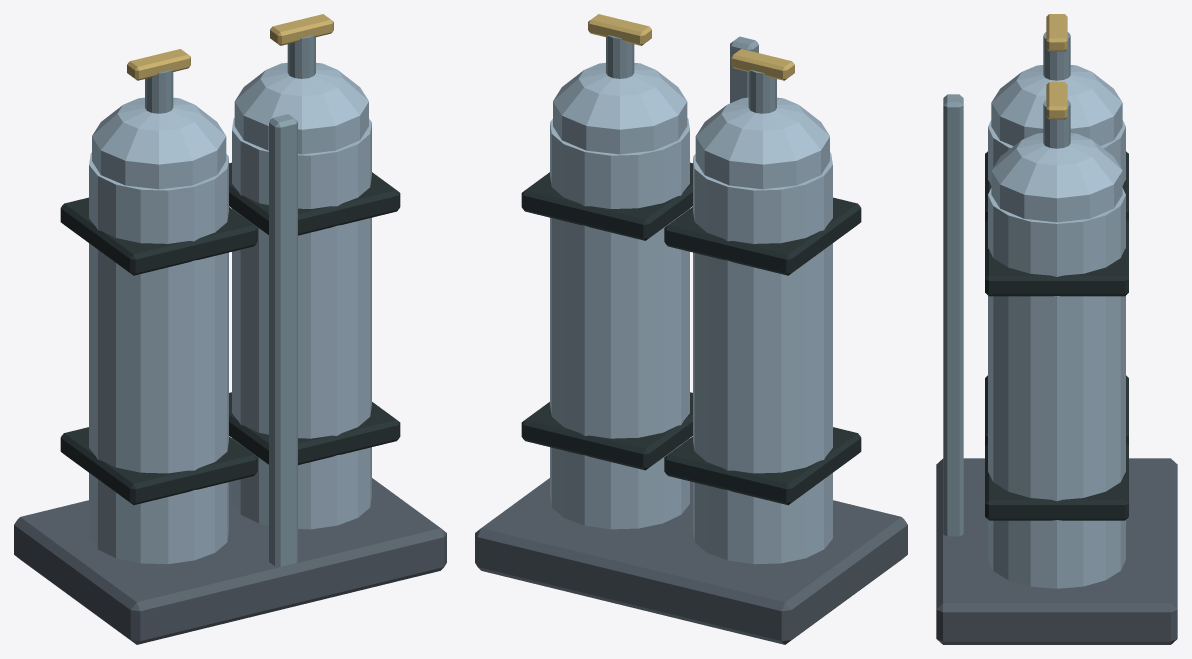
The model's file is oxygen_cylinder_pair.glb.
3 renders of one model, left to right at view 1: azimuth 30°, elevation 25°; view 2: azimuth 150°, elevation 25°; view 3: azimuth 270°, elevation 25°, orthographic. The views are drawn at different scales.
Visible parts, largest first — view 1: gas_cylinder (×2), carrier_base, restraint_band (×4), cylinder_shoulder (×2), carrier_back, valve_grip (×2), valve (×2); view 2: gas_cylinder (×2), carrier_base, restraint_band (×4), cylinder_shoulder (×2), valve_grip (×2), valve (×2), carrier_back; view 3: gas_cylinder (×2), carrier_base, cylinder_shoulder (×2), restraint_band (×4), carrier_back, valve (×2), valve_grip (×2).
Boxes of the visible parts, <box> form: gas_cylinder (×2): <box>89,118,371,564</box>; carrier_base: <box>14,478,446,644</box>; restraint_band (×4): <box>60,162,400,505</box>; cylinder_shoulder (×2): <box>92,62,368,189</box>; carrier_back: <box>269,114,297,566</box>; valve_grip (×2): <box>127,14,333,80</box>; valve (×2): <box>145,35,315,113</box>; gas_cylinder (×2): <box>550,118,832,564</box>; carrier_base: <box>475,478,907,644</box>; restraint_band (×4): <box>521,162,861,505</box>; cylinder_shoulder (×2): <box>553,62,829,189</box>; valve_grip (×2): <box>588,14,794,80</box>; valve (×2): <box>606,35,776,113</box>; carrier_back: <box>730,36,758,103</box>; gas_cylinder (×2): <box>988,120,1125,588</box>; carrier_base: <box>936,458,1177,644</box>; cylinder_shoulder (×2): <box>991,65,1122,222</box>; restraint_band (×4): <box>985,151,1128,520</box>; carrier_back: <box>943,94,963,536</box>; valve (×2): <box>1043,32,1070,148</box>; valve_grip (×2): <box>1046,14,1067,119</box>.
Bounding box in the file's own units: 0.62 × 0.983 × 0.42.
